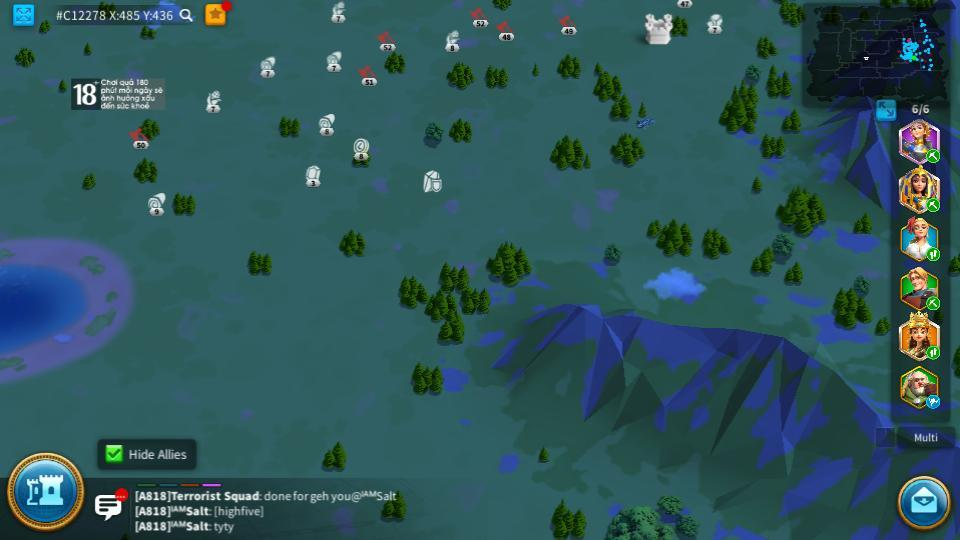gem-z-out: (303, 164, 322, 186)
march_farming: (924, 197, 939, 212), (925, 149, 942, 162)
march_idle: (925, 396, 942, 410)
march_marching: (925, 347, 941, 359), (926, 297, 941, 308)
